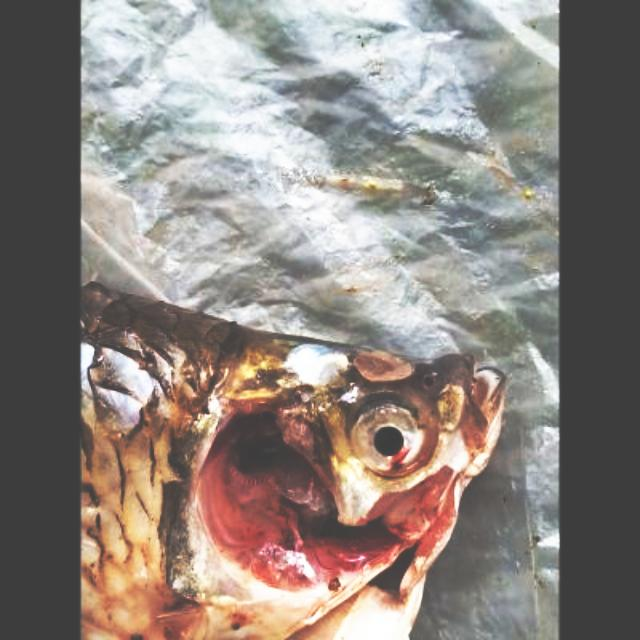Flavobacterium -Bacterial Gill Disease-: (80, 283, 506, 640), (80, 283, 502, 638)
